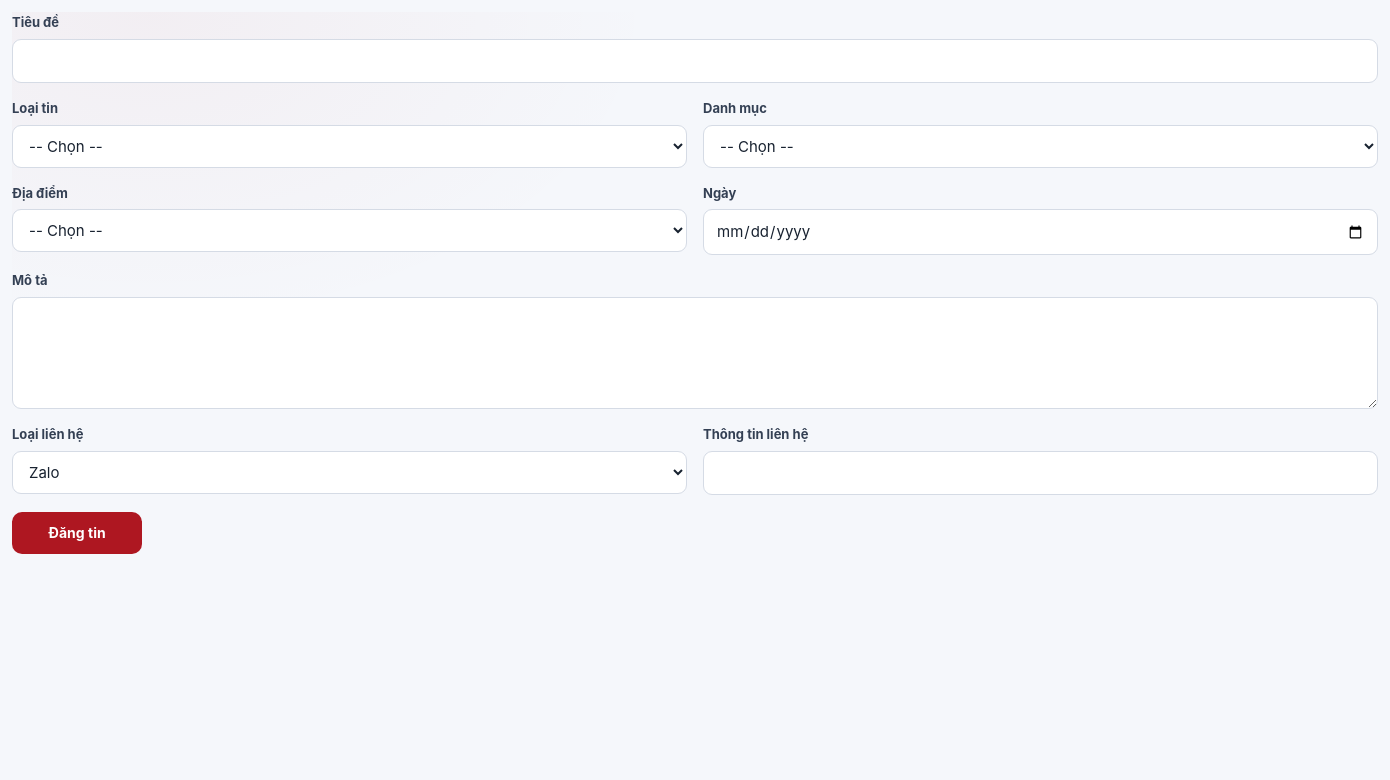
Biểu mẫu đăng tin › hiện lỗi ngay dưới đúng trường được trả về từ action
Click the button "Đăng tin" at coordinates (77, 533), box [12,512,142,554]
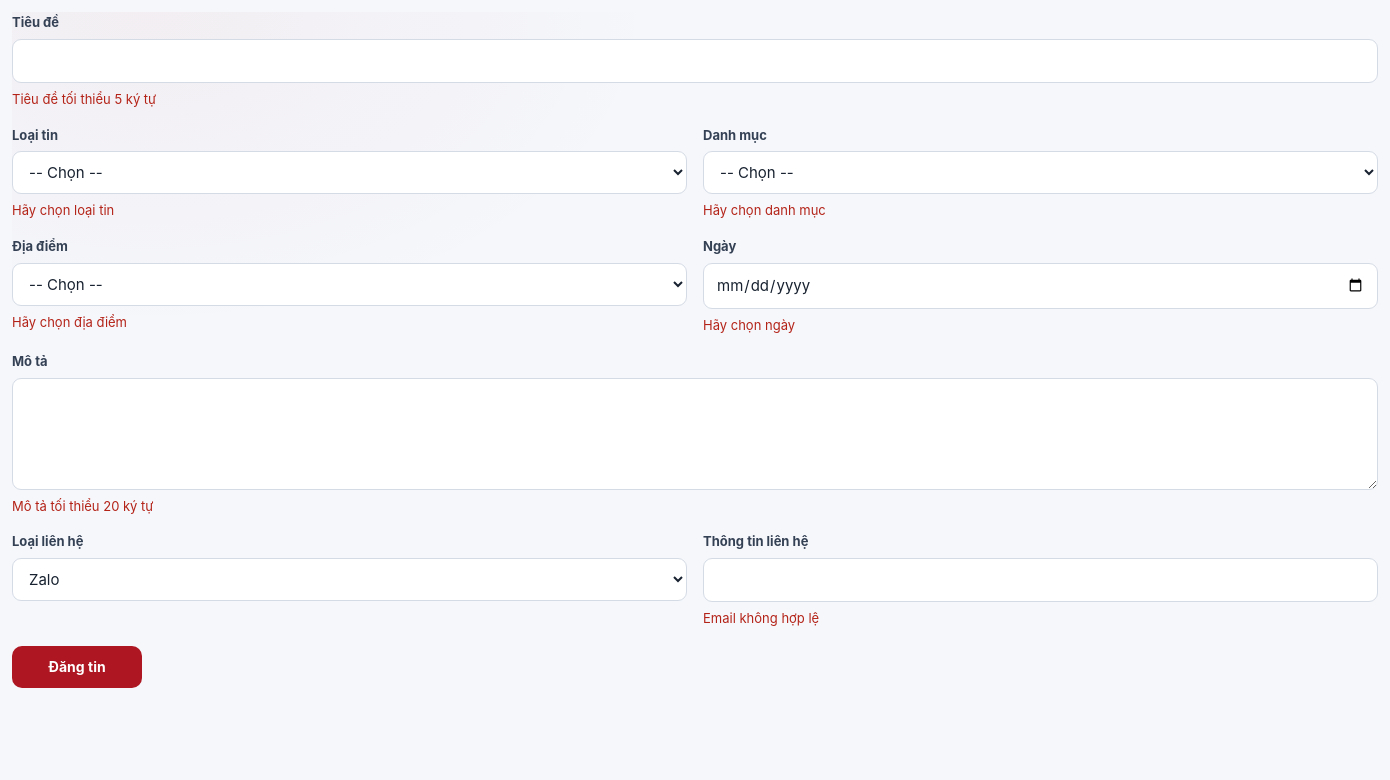
expect the number of messages is 7: met
